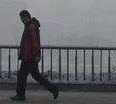person: (10, 9, 60, 102)
